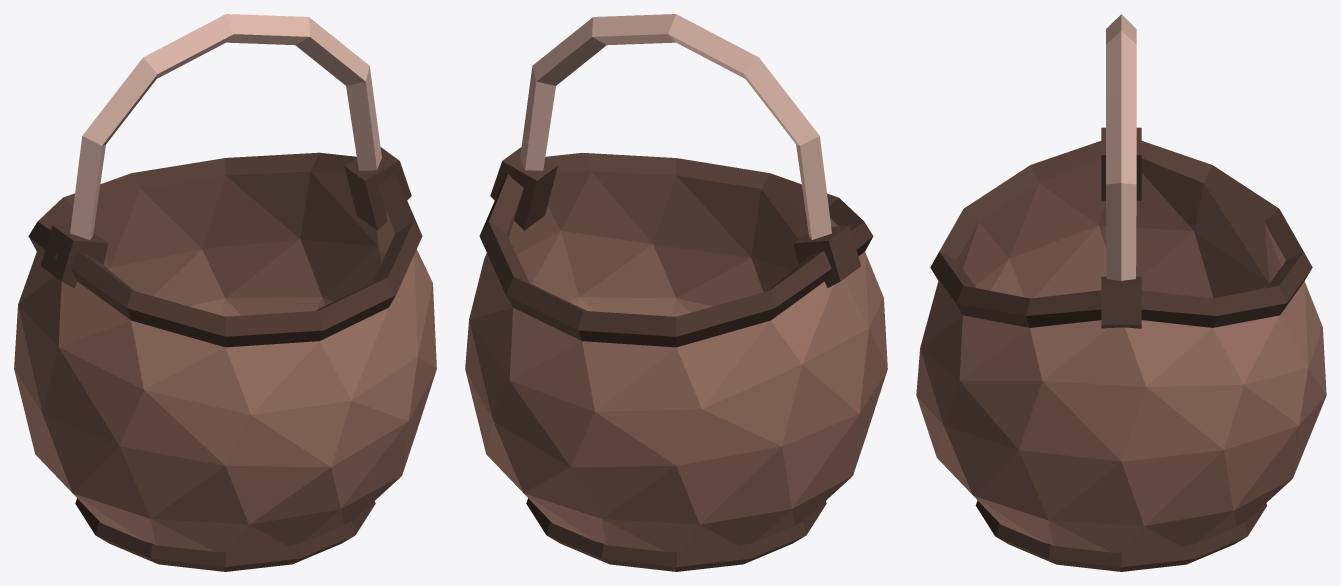
The model's file is Basket_01.glb.
3 renders of one model, left to right at view 1: azimuth 30°, elevation 25°; view 2: azimuth 150°, elevation 25°; view 3: azimuth 270°, elevation 25°, orthographic. The views are drawn at different scales.
Visible parts, largest first — view 1: Basket_1_mesh; view 2: Basket_1_mesh; view 3: Basket_1_mesh.
Part boxes in pixels (x1,y1,x2,y2): Basket_1_mesh: (14,14,436,571); Basket_1_mesh: (465,14,887,571); Basket_1_mesh: (916,14,1326,571).
Bounding box in the file's own units: 0.3991 × 0.5221 × 0.3991.
1 material, 1 textured.
